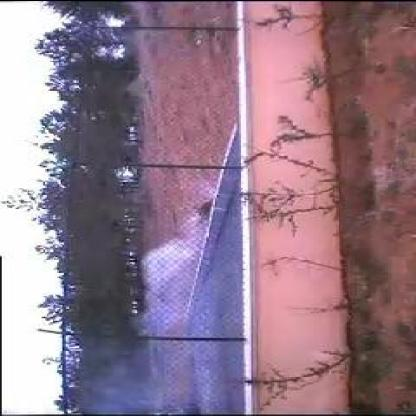-: (108, 212, 246, 378)
